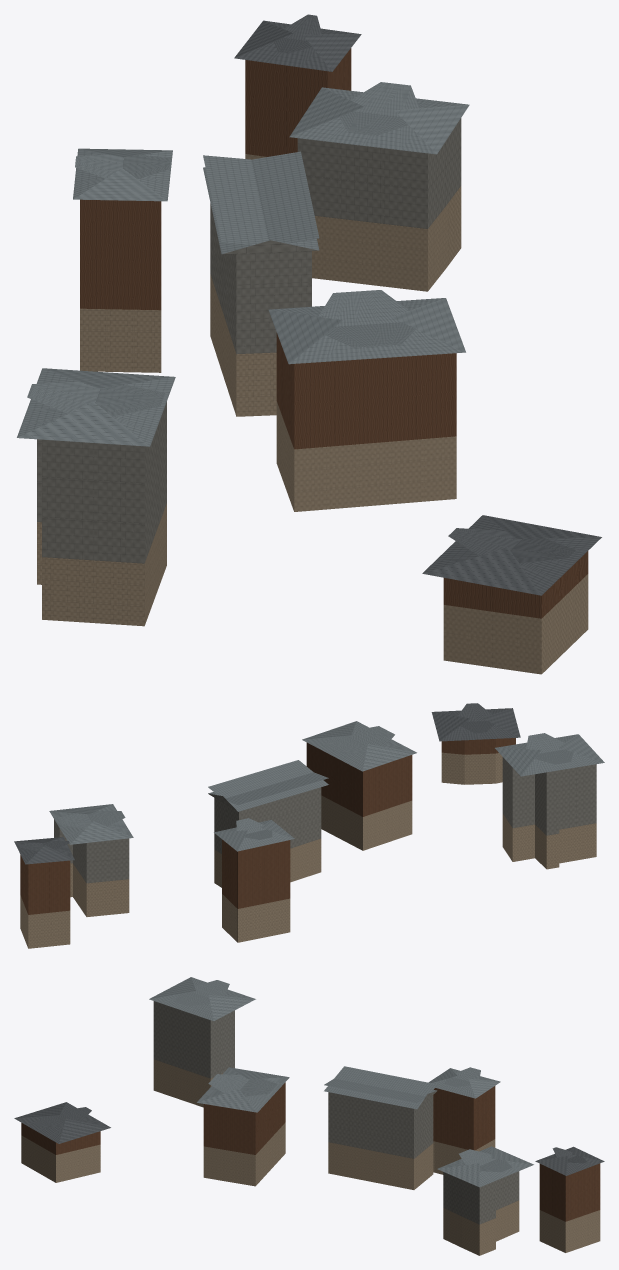
The model's file is bld_c17_28_382.gltf.
3 renders of one model, top to bottom at view 1: azimuth 30°, elevation 25°; view 2: azimuth 150°, elevation 25°; view 3: azimuth 270°, elevation 25°, orthographic. The views are drawn at different scales.
Visible parts, largest first — view 1: bld_c17_28_382; view 2: bld_c17_28_382; view 3: bld_c17_28_382.
Part boxes in pixels (<box>): bld_c17_28_382: <box>17,14,601,674</box>; bld_c17_28_382: <box>14,703,604,948</box>; bld_c17_28_382: <box>14,977,604,1255</box>.
Bounding box in the file's own units: 63.19 × 17.8 × 87.2.
6 materials, 6 textured.
